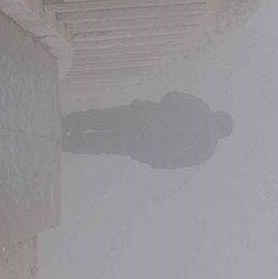person: (58, 91, 234, 170)
